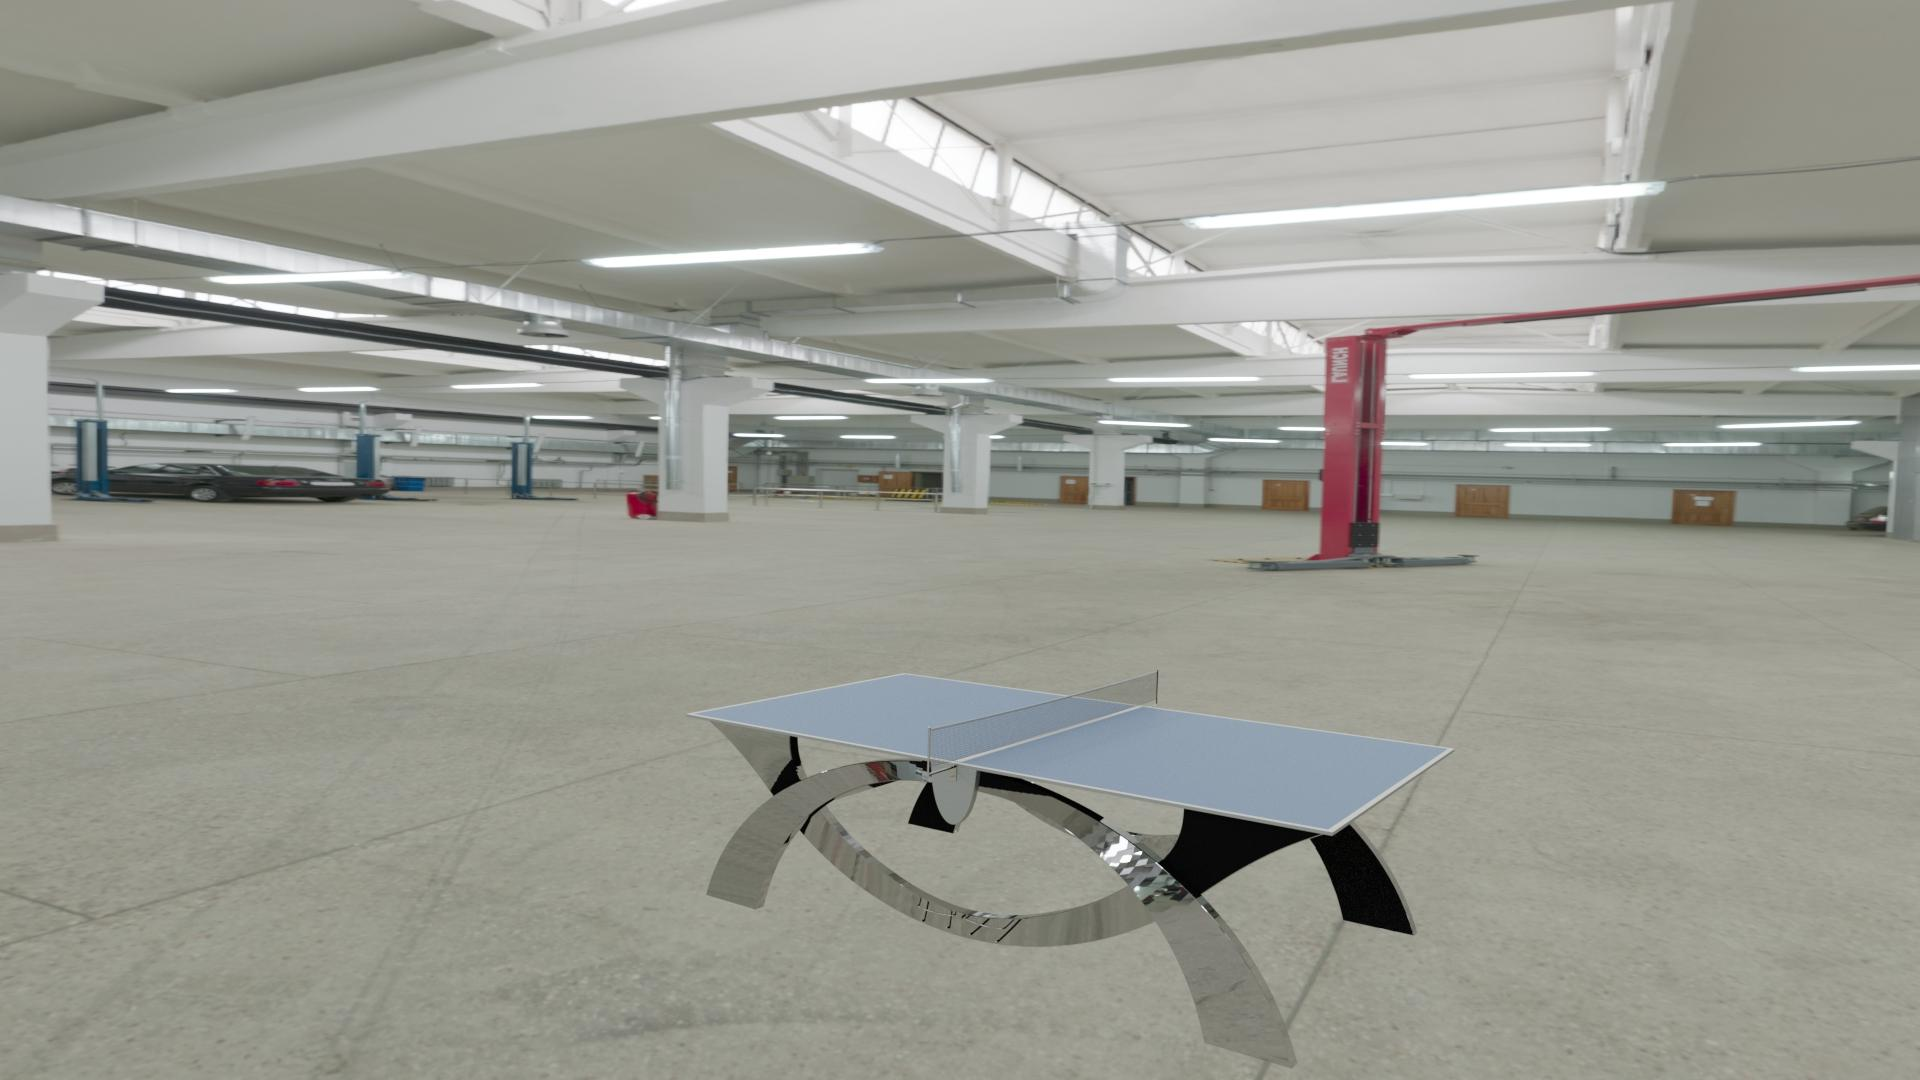table: (692, 674, 1448, 829)
